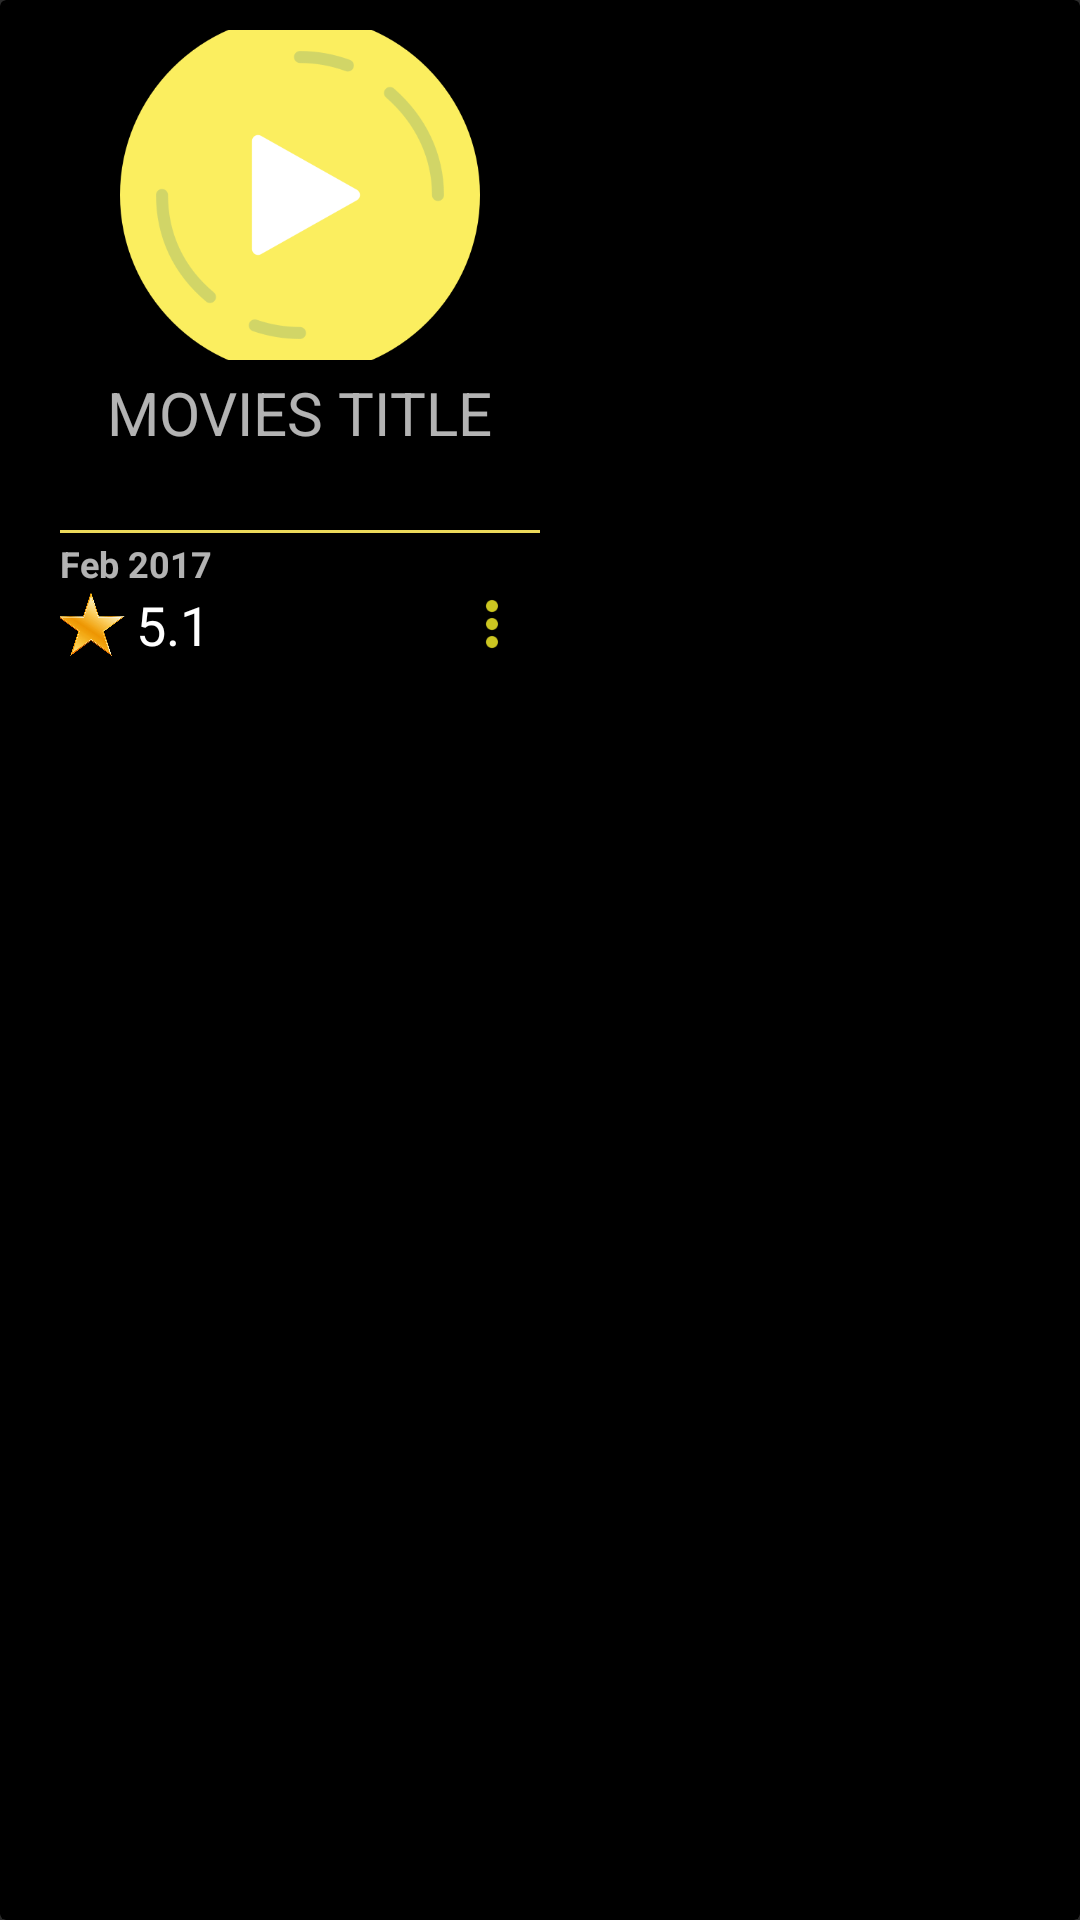

Named icons in this screenshot (1080x1920) and their centers, (x=x, y=y):
dots action: (x=492, y=624)
